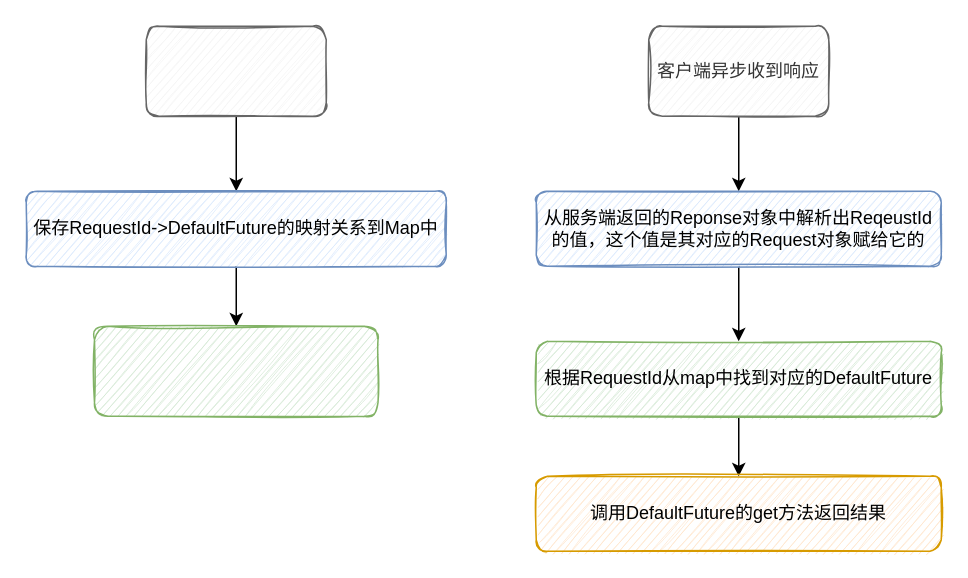
The diagram is 968 pixels wide and 578 high, and some of its shapes have lost their labels. Each missing label, with the centre of its shape:
客户端开始远程调用: point 235,70
将请求包装成Reqeust对象，含有RequestId属性，发起调用: point 235,370
